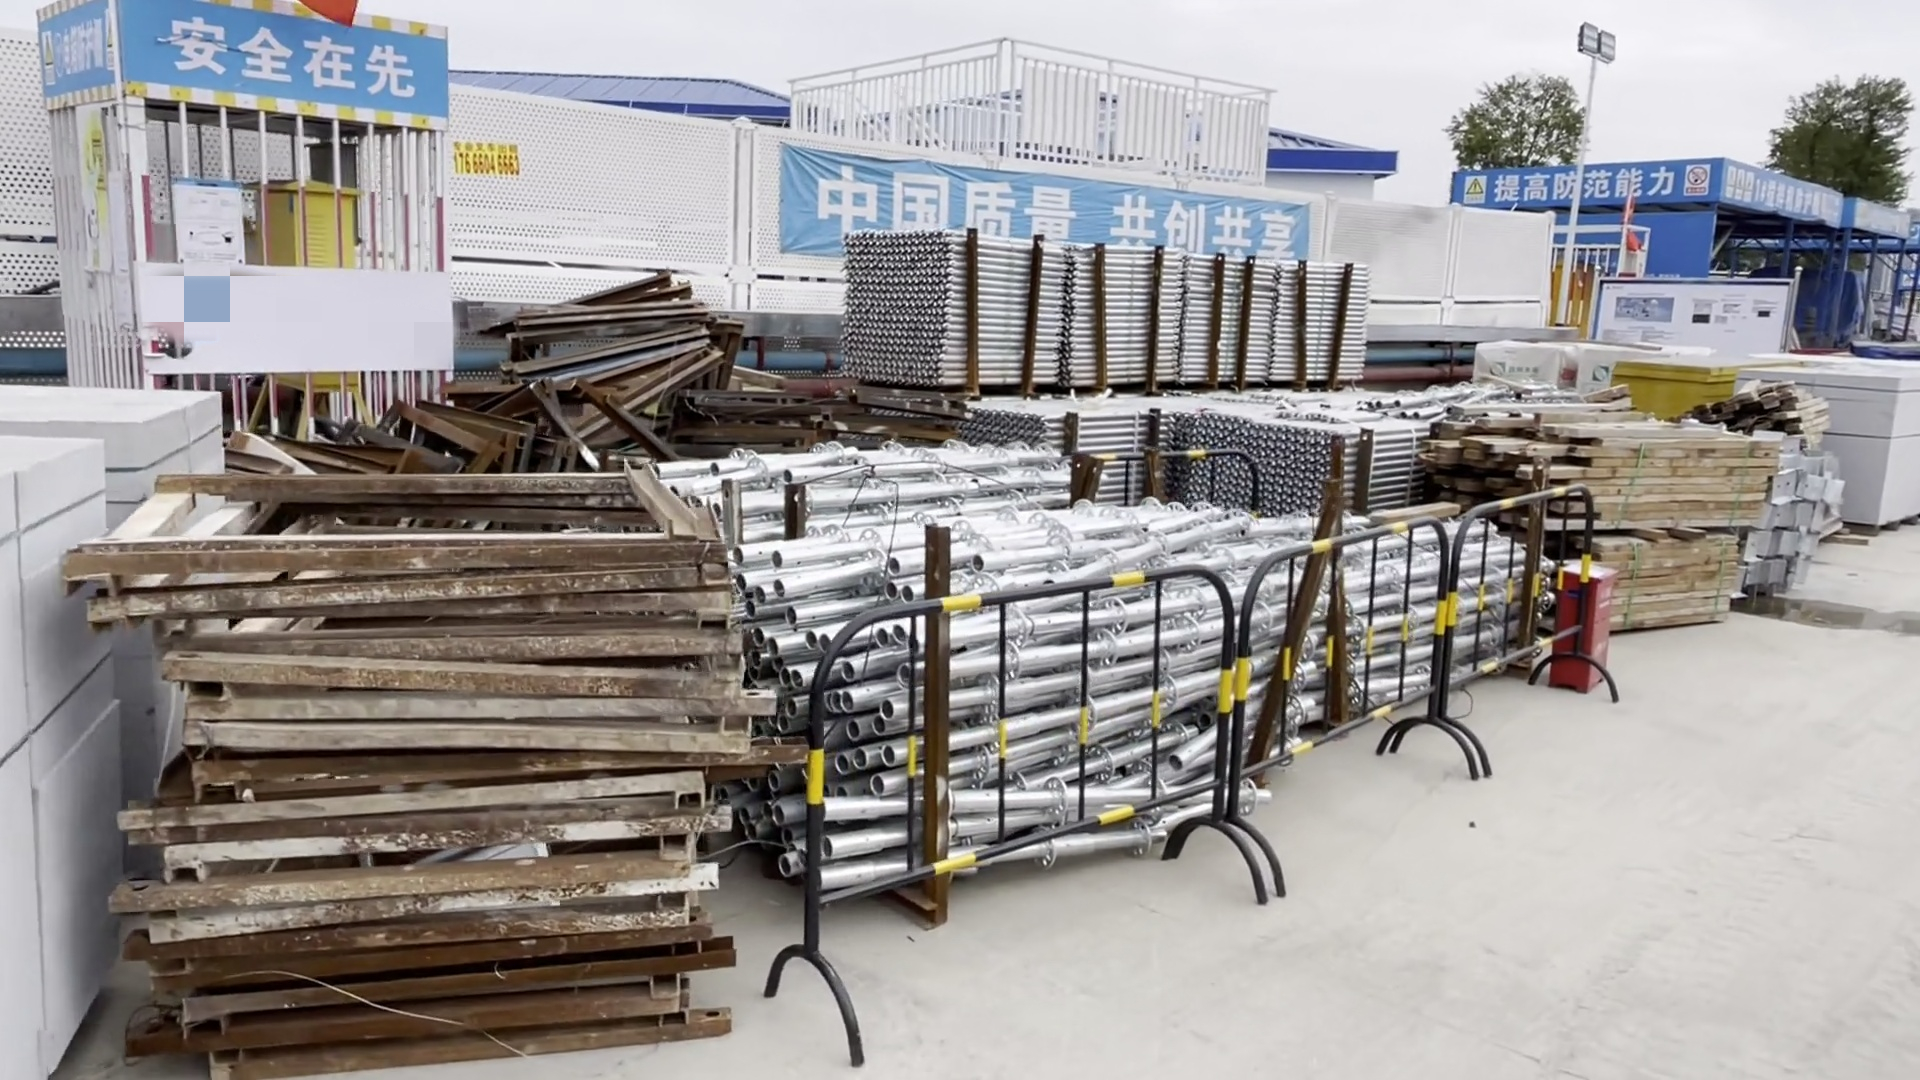scaffold: (746, 468, 1509, 844), (832, 229, 1382, 418), (1167, 405, 1433, 531)
slogan: (762, 149, 1335, 299), (34, 5, 452, 142), (1445, 152, 1880, 240)
wood: (1510, 401, 1762, 666)
